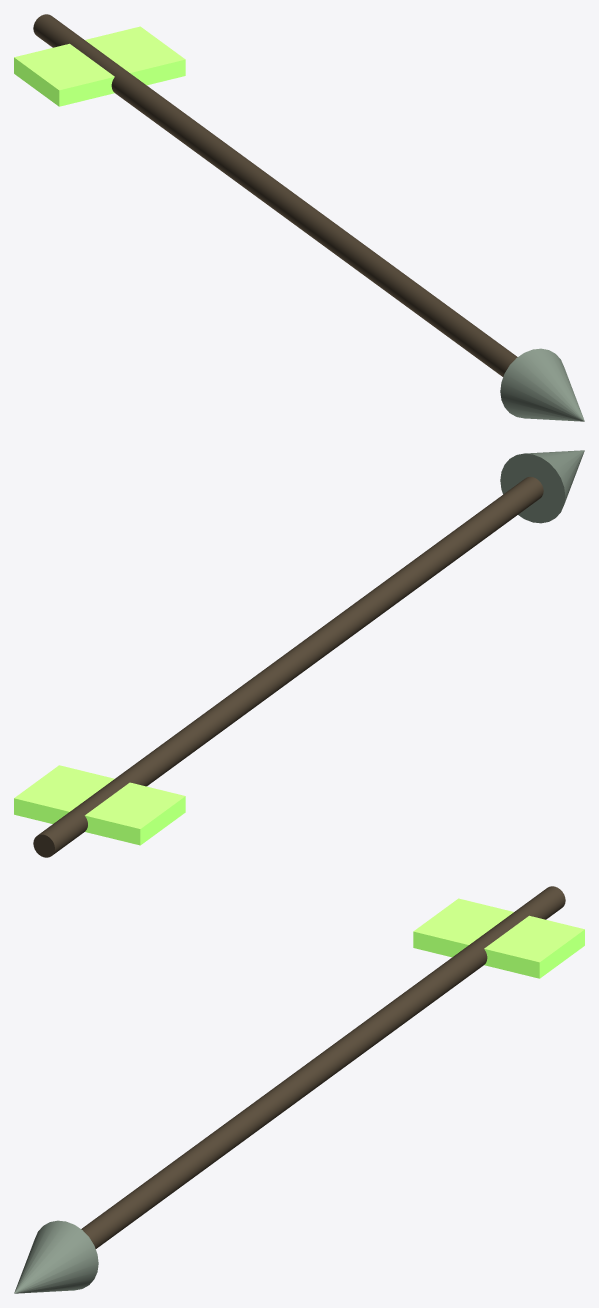
The model's file is FSA_PRJ_001_PoisonArrow.glb.
3 renders of one model, top to bottom at view 1: azimuth 30°, elevation 25°; view 2: azimuth 150°, elevation 25°; view 3: azimuth 330°, elevation 25°, orthographic.
Parts seen in each view (by area): view 1: ArrowShaft, ArrowTip, ArrowFletchR, ArrowFletchL; view 2: ArrowShaft, ArrowFletchR, ArrowTip, ArrowFletchL; view 3: ArrowShaft, ArrowTip, ArrowFletchL, ArrowFletchR.
Boxes of the visible parts, bbox=[...] form: ArrowShaft: bbox=[33, 14, 517, 376]; ArrowTip: bbox=[500, 348, 584, 421]; ArrowFletchR: bbox=[14, 43, 114, 106]; ArrowFletchL: bbox=[85, 26, 185, 85]; ArrowShaft: bbox=[33, 477, 543, 857]; ArrowFletchR: bbox=[85, 782, 185, 845]; ArrowTip: bbox=[500, 450, 584, 523]; ArrowFletchL: bbox=[14, 765, 114, 823]; ArrowShaft: bbox=[81, 886, 565, 1248]; ArrowTip: bbox=[14, 1220, 98, 1293]; ArrowFletchL: bbox=[484, 915, 584, 978]; ArrowFletchR: bbox=[413, 898, 513, 957].
Size of the model in its own units: 0.105 by 0.054 by 0.7775.
